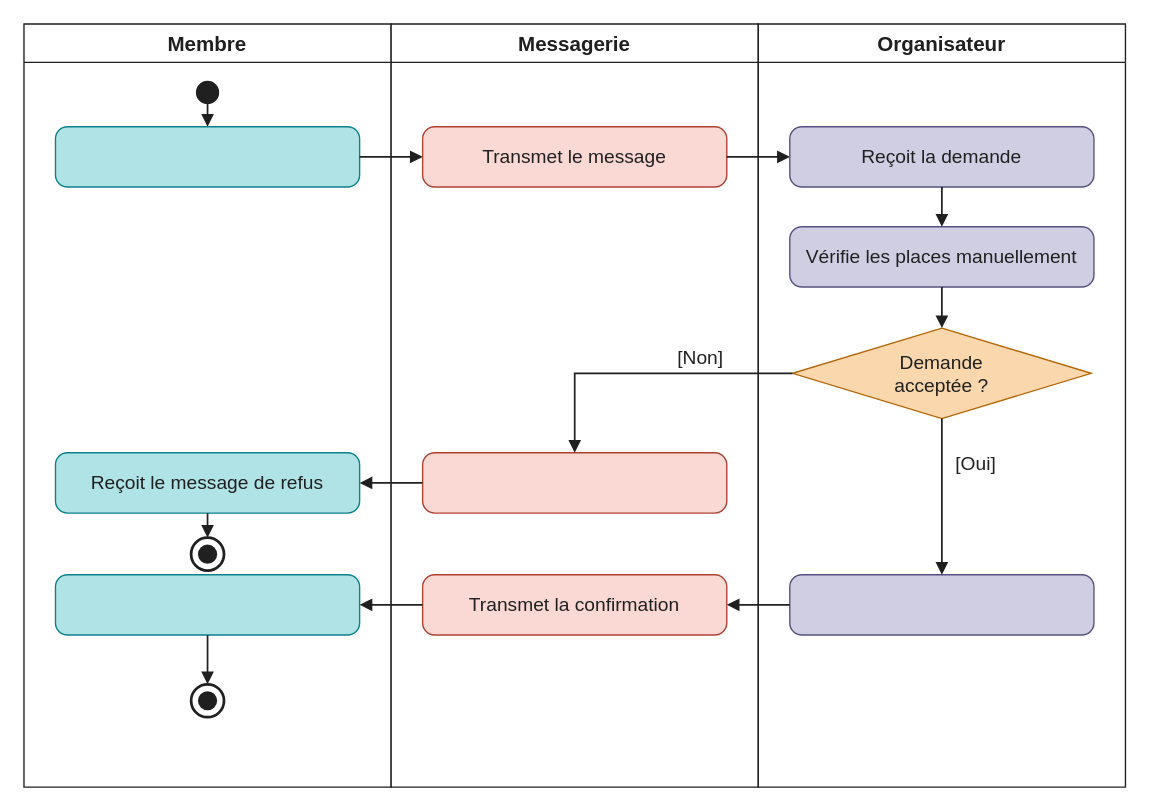
This 1149x811 diagram has some shape labels left out. The shapes that lost their labels are listed below. From the top down, each one's centre as x and y in pixels, then its label:
At (207,156): "Envoie une demande de participation".
At (574,482): "Transmet le refus".
At (207,604): "Reçoit une confirmation".
At (941,604): "Note la participation dans sa liste".
